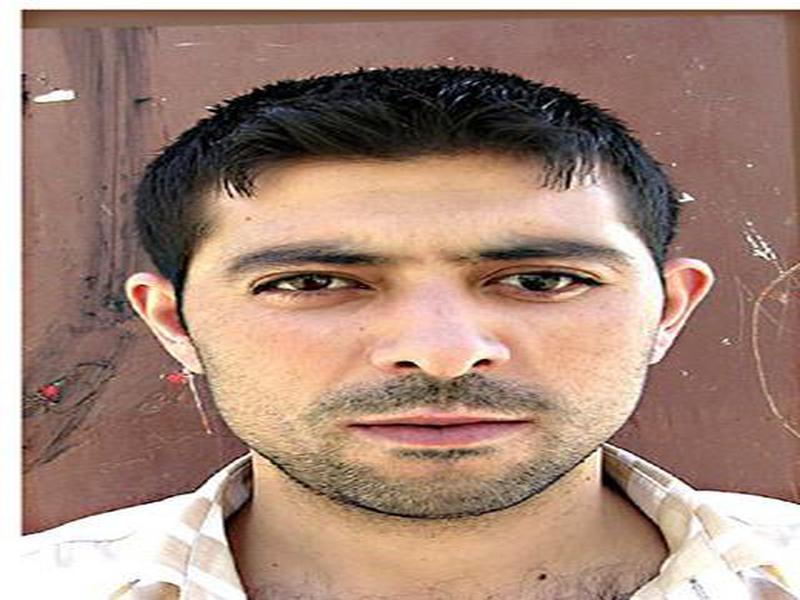without_mask: (189, 159, 659, 519)
